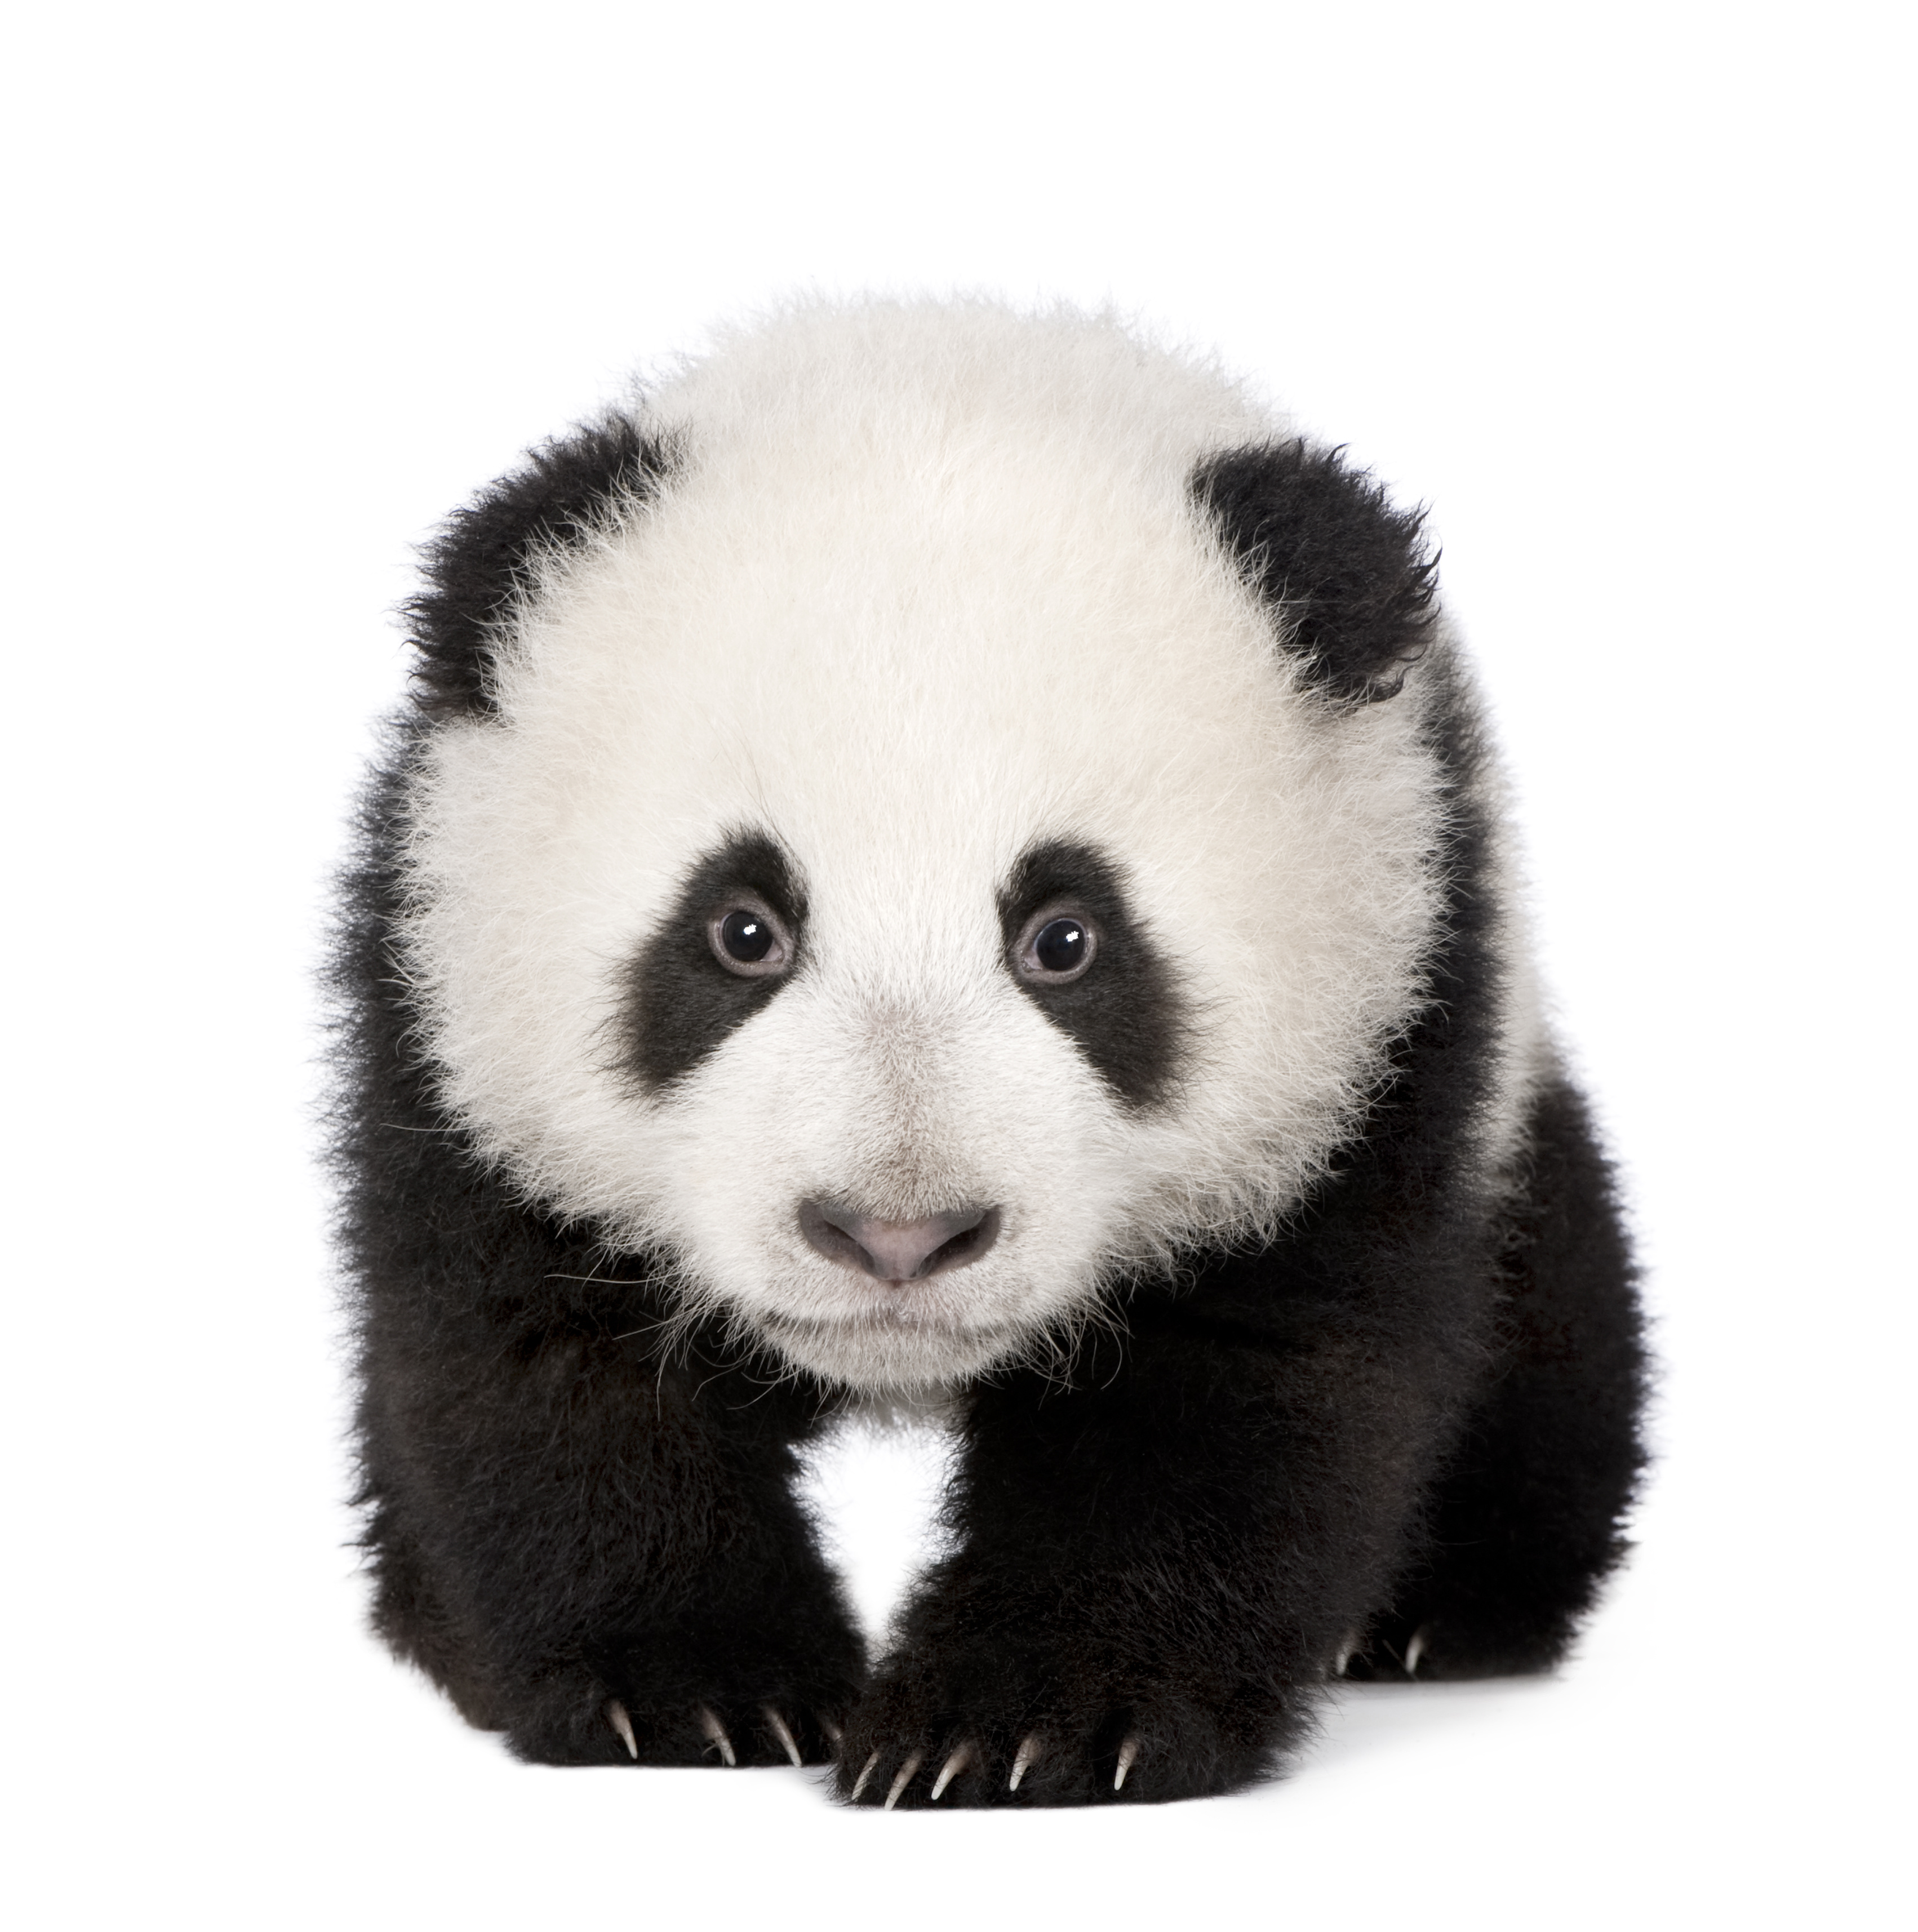panda: (276, 320, 1748, 1795)
